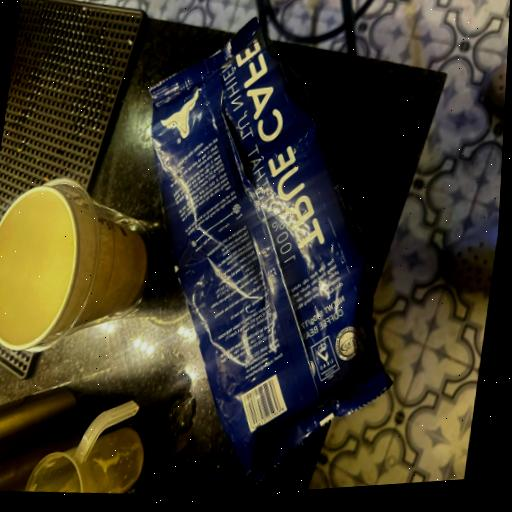cafe_hat: (150, 18, 391, 481)
